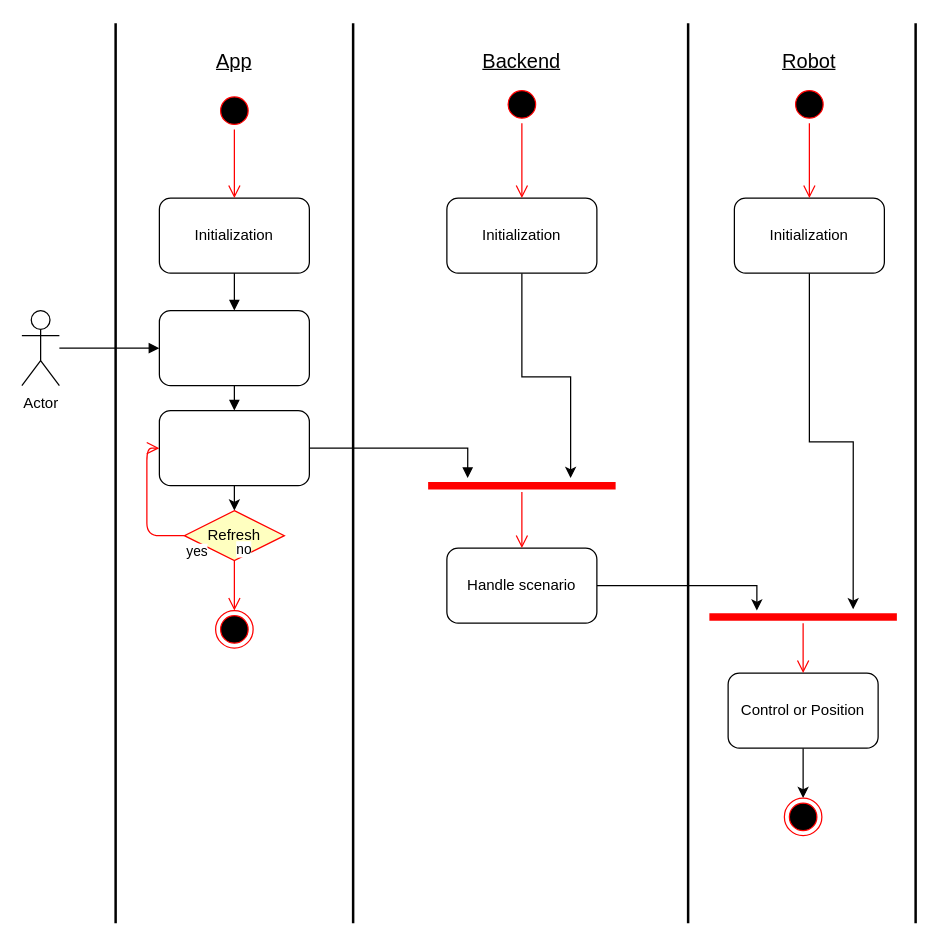
The diagram is 945 pixels wide and 945 high, and some of its shapes have lost their labels. The shapes that lost their labels are listed below. From the top down, each one's box as (x1, y1, x2, y2) in pixels, then its label:
(158, 309, 309, 386): Choose robot
(158, 409, 309, 486): Scenario
